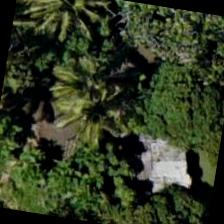Kelapa_Sawit: (32, 33, 136, 136), (44, 66, 146, 169)
